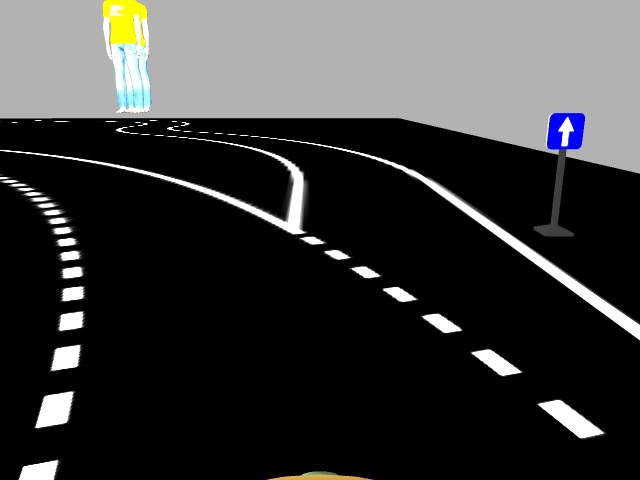OneWay: (546, 111, 584, 149)
